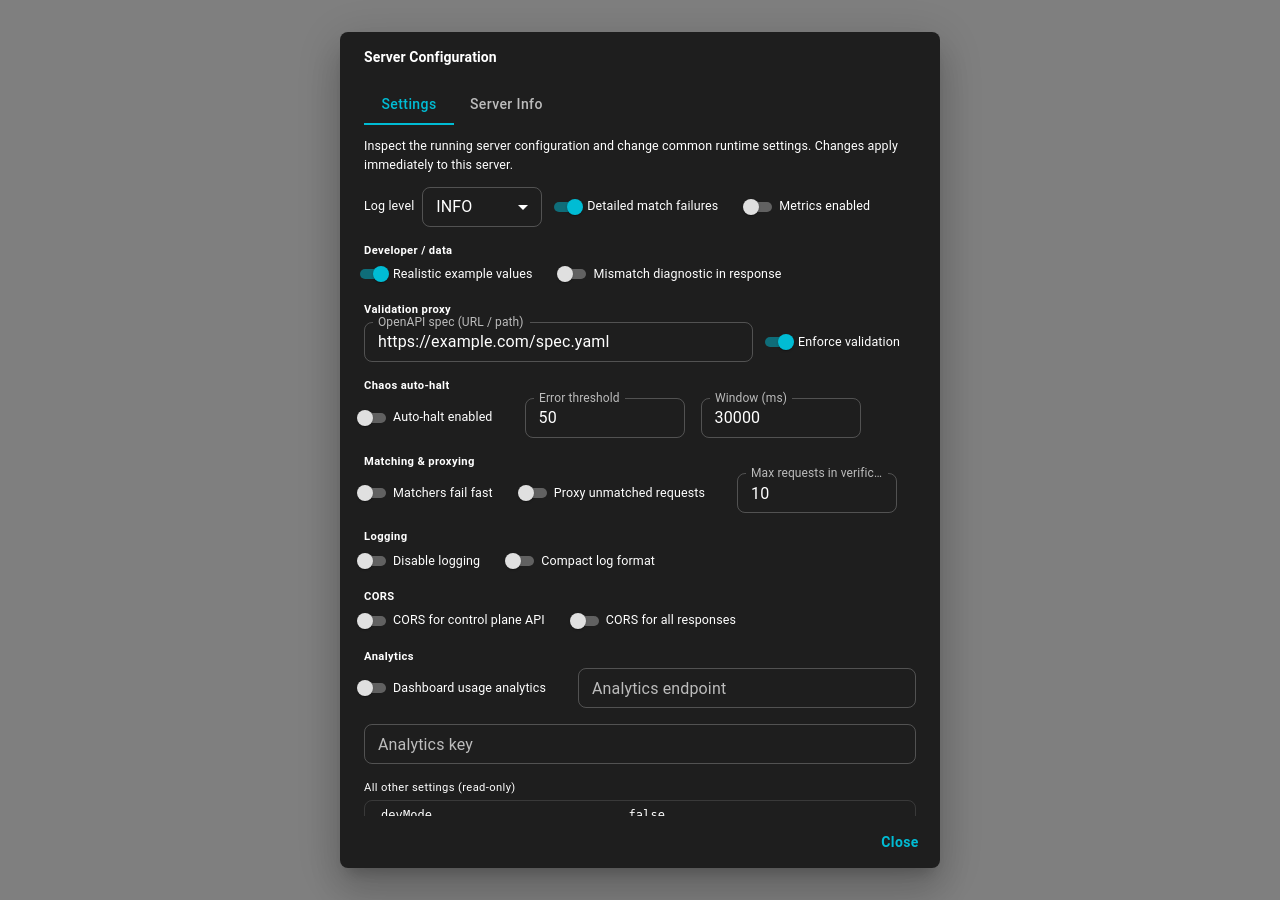
Test: ConfigurationDialog › shows a proxy-setup error without hiding the effective config
The image size is (1280, 900).
Expected: the text "Log level" is shown, [364,197,414,216]
Click the tab "Server Info". click: (506, 104)
box: [454,84,559,125]
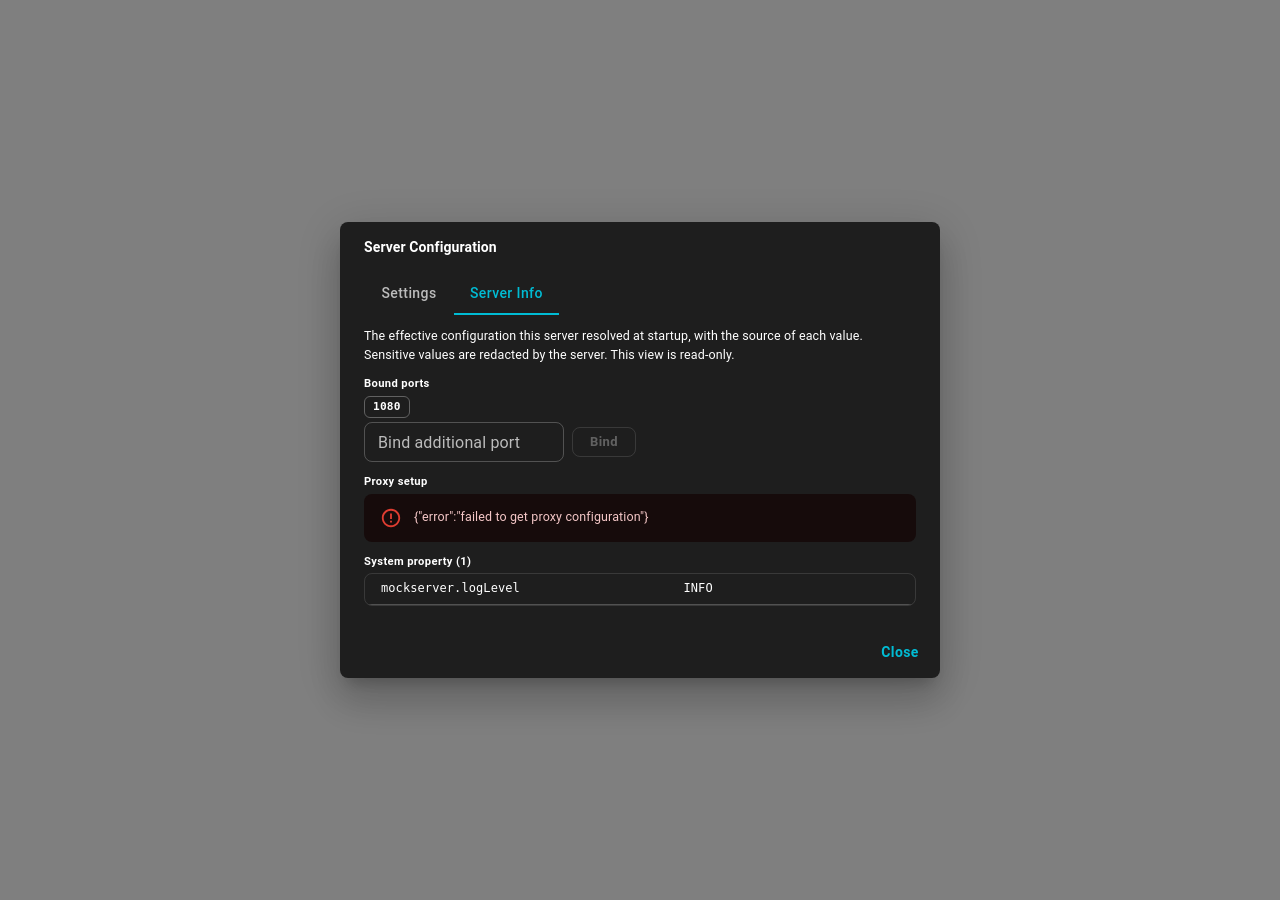
Expected: the text "mockserver.logLevel" is shown, [365,574,668,604]
Expected: the text "Proxy setup" is shown, [364,475,428,488]
